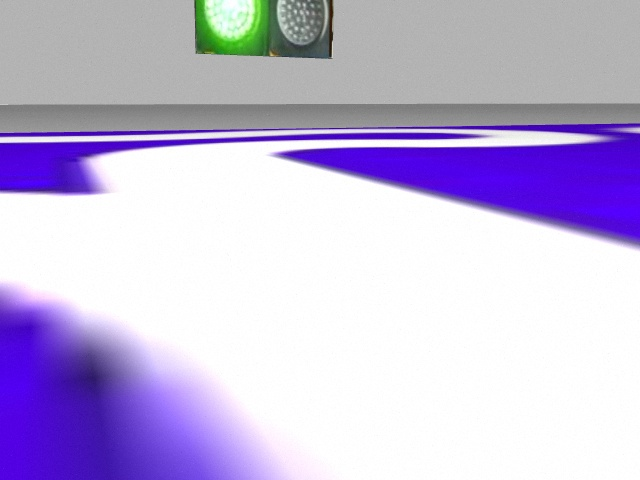green: (193, 1, 268, 55)
